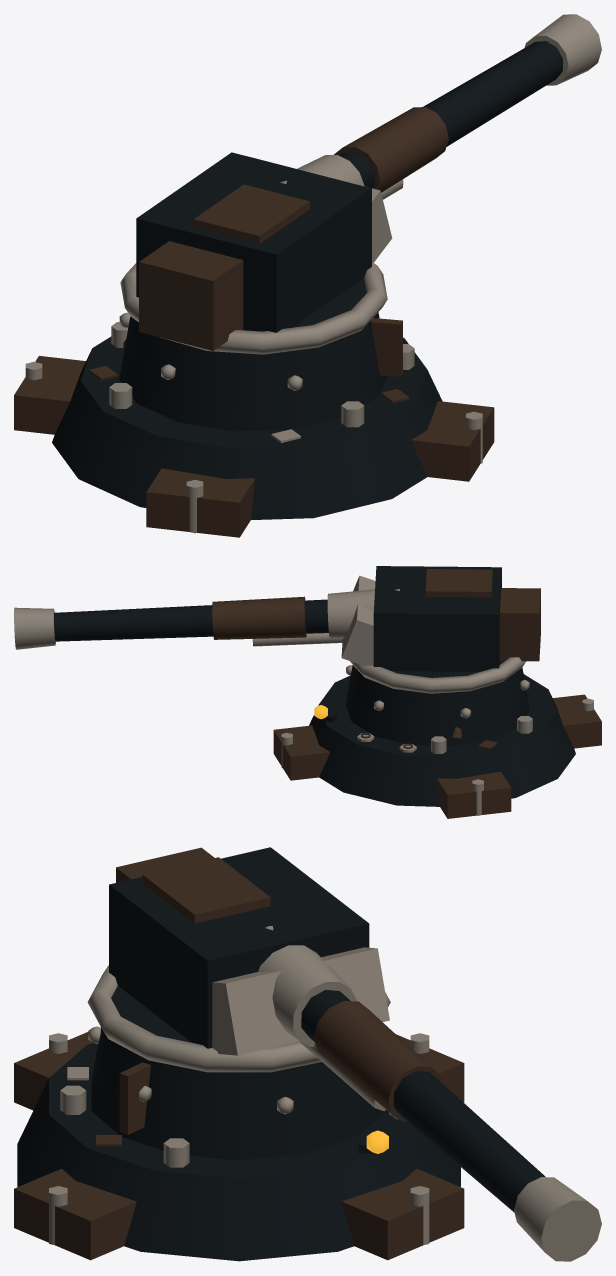
Rendered from sentinel-turret-bathyarch.glb.
The picture shows the model from 3 angles, top to bottom: view 1: azimuth 30°, elevation 25°; view 2: azimuth 150°, elevation 25°; view 3: azimuth 270°, elevation 25°; orthographic projection. The views are drawn at different scales.
Visible parts, largest first — view 1: base_raft, turret_housing, mount_drum, counterweight, barrel, anchor_foot_3, mount_ring, barrel_jacket, anchor_foot_2, turret_roof_patch, anchor_foot_4, muzzle_brake (+3 smaller); view 2: base_raft, turret_housing, mount_drum, barrel, barrel_jacket, counterweight, mount_ring, anchor_foot_4, anchor_foot_1, turret_roof_patch, turret_glacis, anchor_foot_3 (+3 smaller); view 3: base_raft, turret_housing, mount_drum, barrel, turret_glacis, anchor_foot_1, anchor_foot_2, barrel_jacket, mount_ring, turret_roof_patch, muzzle_brake, barrel_breech (+9 smaller).
Part boxes in pixels (x1,y1,x2,y2): base_raft: [52, 336, 442, 519]; turret_housing: [136, 152, 371, 332]; mount_drum: [119, 278, 386, 431]; counterweight: [139, 241, 243, 350]; barrel: [339, 41, 562, 188]; anchor_foot_3: [146, 468, 255, 537]; mount_ring: [120, 262, 387, 354]; barrel_jacket: [334, 107, 448, 192]; anchor_foot_2: [411, 401, 494, 481]; turret_roof_patch: [193, 184, 309, 243]; anchor_foot_4: [14, 356, 85, 434]; muzzle_brake: [524, 14, 601, 85]; base_raft: [309, 674, 575, 806]; turret_housing: [373, 566, 501, 671]; mount_drum: [345, 661, 529, 746]; barrel: [54, 599, 328, 641]; barrel_jacket: [212, 596, 306, 639]; counterweight: [499, 588, 540, 661]; mount_ring: [350, 657, 525, 693]; anchor_foot_4: [437, 771, 511, 818]; anchor_foot_1: [273, 725, 330, 780]; turret_roof_patch: [425, 569, 492, 597]; turret_glacis: [341, 575, 375, 666]; anchor_foot_3: [552, 694, 601, 748]; base_raft: [17, 1043, 460, 1261]; turret_housing: [109, 847, 369, 1048]; mount_drum: [91, 986, 386, 1160]; barrel: [301, 989, 545, 1212]; turret_glacis: [212, 947, 389, 1055]; anchor_foot_1: [341, 1168, 464, 1260]; anchor_foot_2: [14, 1168, 136, 1260]; barrel_jacket: [313, 1001, 441, 1121]; mount_ring: [87, 965, 390, 1072]; turret_roof_patch: [142, 857, 270, 923]; muzzle_brake: [514, 1177, 601, 1261]; barrel_breech: [258, 926, 356, 1046].
Size of the model in its own units: 120 by 41.85 by 82.6.
